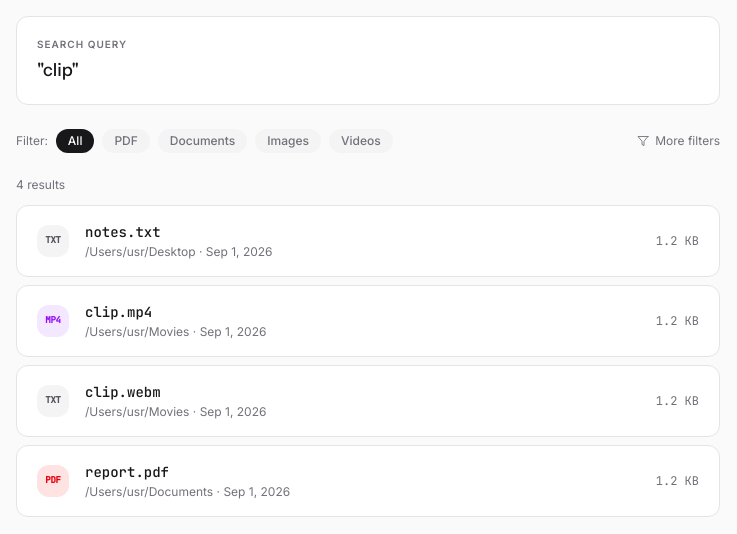
Test: Search › applies the Videos quick filter to non-folder results
Step 1. Click the button "Videos" → [361, 141], box [329,129,393,153]
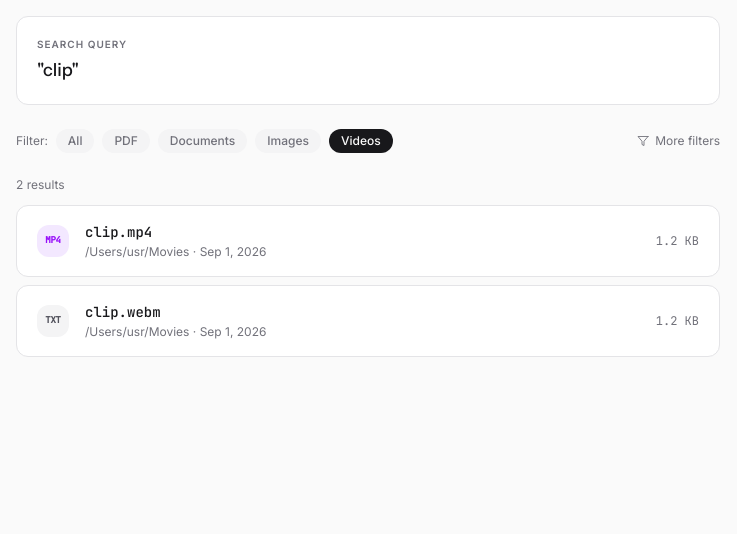
Expected: the button "notes.txt" is gone
Expected: the button "report.pdf" is gone
Expected: the text "2 results" is shown, [16,177,65,192]
